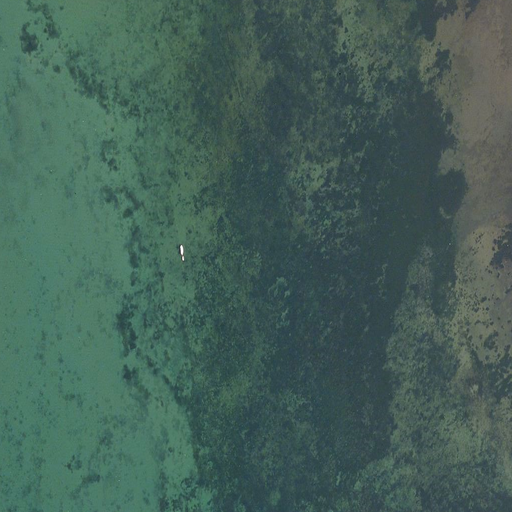ship: (177, 243, 187, 263)
